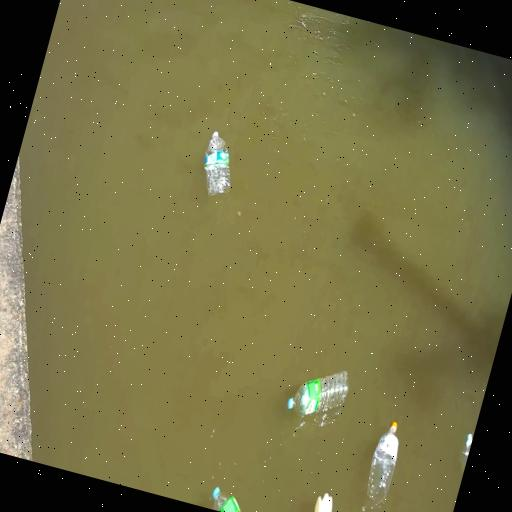plastic: (287, 371, 347, 417), (366, 422, 397, 505), (204, 132, 230, 195), (211, 487, 239, 511), (460, 434, 472, 471), (314, 494, 331, 511)
